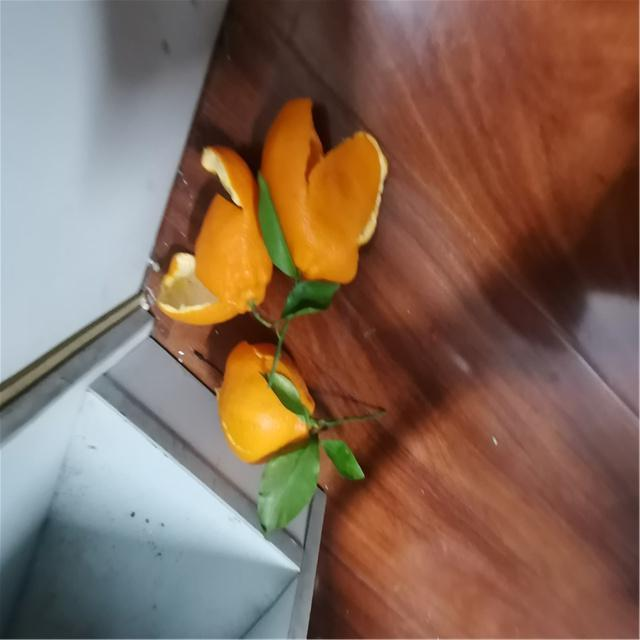orange peel: (250, 96, 389, 310), (150, 140, 288, 337), (212, 342, 326, 468)
